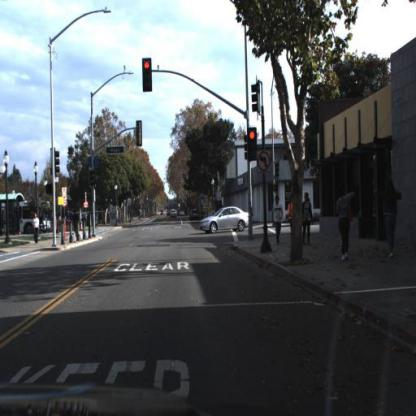car: (202, 203, 251, 237)
pedestrian: (376, 174, 402, 263), (335, 188, 355, 261), (337, 187, 352, 261), (304, 189, 316, 243), (271, 192, 283, 243), (31, 211, 43, 243), (33, 212, 42, 247), (72, 206, 81, 240)
trafficLight-Red: (140, 58, 155, 94), (246, 127, 258, 163), (249, 128, 257, 155)
truck: (1, 200, 53, 234)
